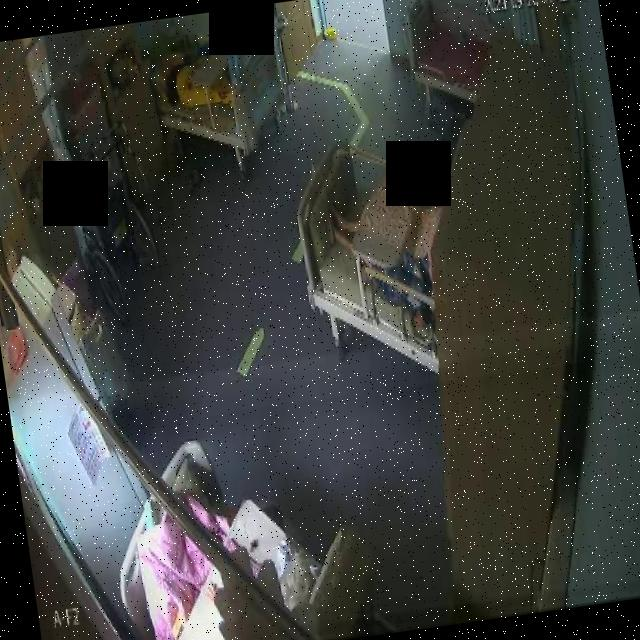bed: (100, 418, 368, 640), (285, 132, 442, 392), (152, 39, 296, 192), (397, 0, 481, 124)
